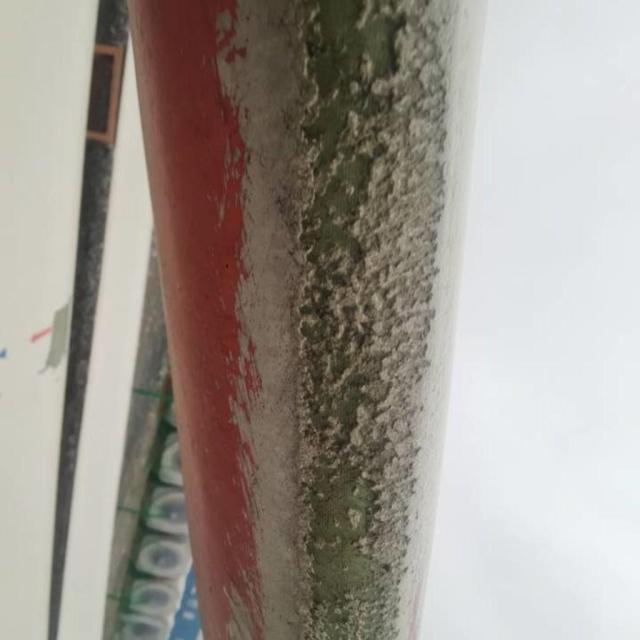surface_peeling: (257, 7, 432, 638)
